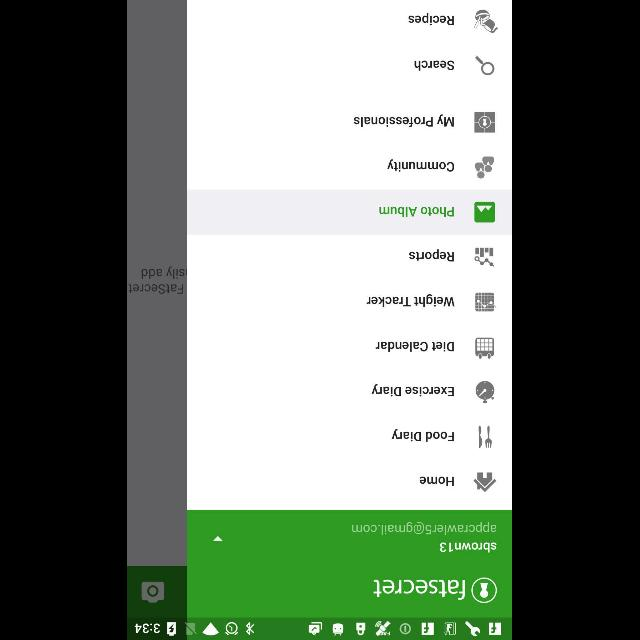icon: (142, 582, 166, 602), (474, 472, 498, 492), (476, 381, 496, 404), (476, 292, 496, 312), (476, 56, 496, 76), (476, 156, 494, 178), (476, 338, 494, 358), (475, 248, 495, 266), (214, 536, 224, 540)
image: (472, 577, 498, 603), (475, 9, 499, 33), (474, 111, 496, 132), (476, 202, 496, 222), (480, 426, 492, 448)
panel: (188, 0, 512, 618)
text: (374, 578, 466, 600), (352, 522, 498, 534), (354, 114, 456, 128), (366, 294, 456, 308), (372, 384, 454, 396), (380, 206, 454, 218), (392, 428, 454, 442), (388, 160, 454, 172), (376, 342, 454, 352), (409, 12, 455, 26), (410, 248, 454, 262), (440, 542, 498, 552), (414, 60, 456, 72), (420, 476, 454, 486)
uppertaskbar: (128, 617, 512, 639)
